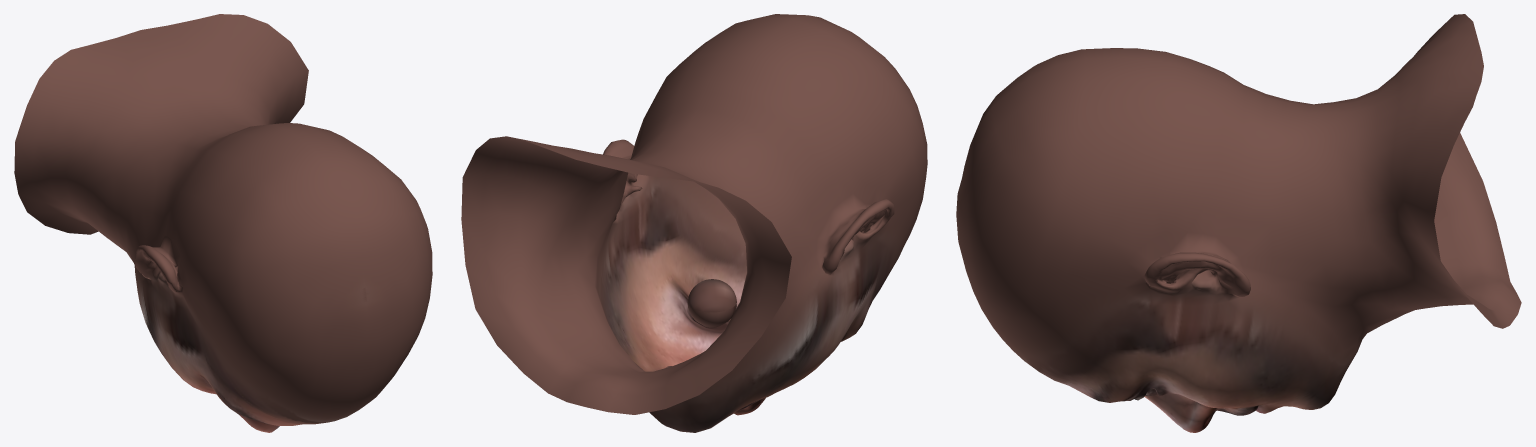
The model's file is avatar.glb.
The picture shows the model from 3 angles, left to right: view 1: azimuth 30°, elevation 25°; view 2: azimuth 150°, elevation 25°; view 3: azimuth 270°, elevation 25°; orthographic projection. The views are drawn at different scales.
Parts seen in each view (by area): view 1: Head; view 2: Head; view 3: Head.
Boxes of the visible parts, <box> form: Head: <box>14,14,432,432</box>; Head: <box>461,14,927,432</box>; Head: <box>956,14,1521,432</box>.
Size of the model in its own units: 0.2256 by 0.2346 by 0.3219.
Materials: 1 (1 with a texture image).
